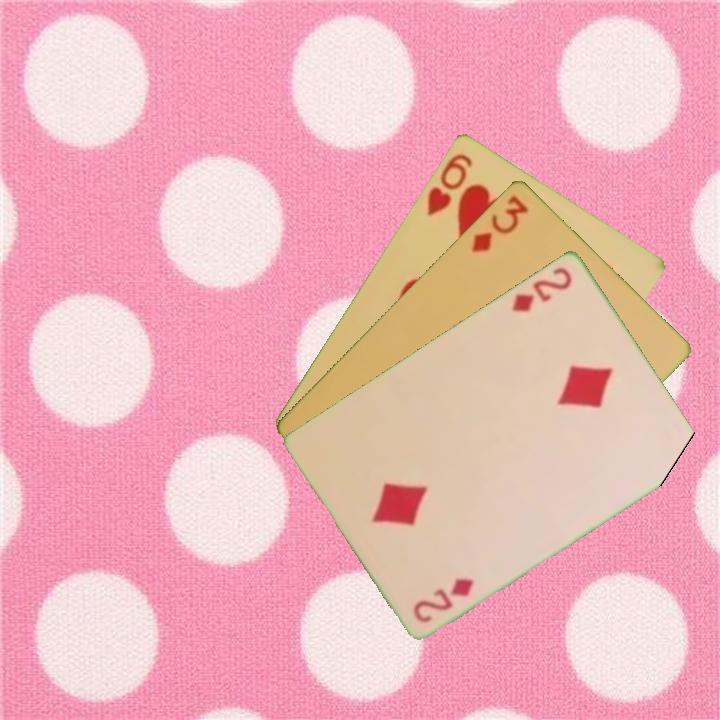2d: (409, 573, 477, 626), (508, 263, 576, 315)
3d: (468, 191, 532, 255)
6h: (423, 149, 475, 219)
